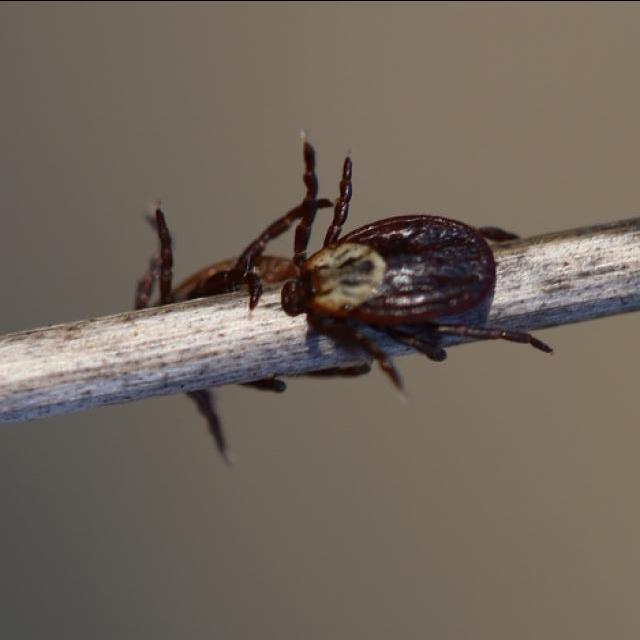Dermacentor Reticulatus-F: (281, 155, 553, 396)
